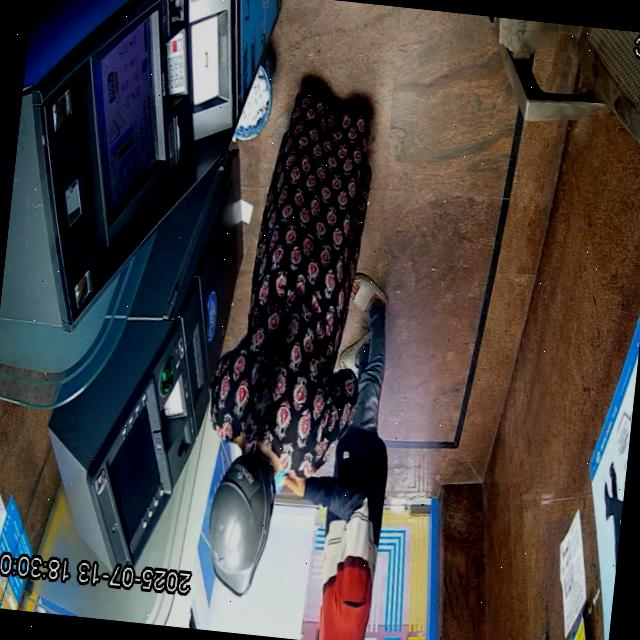helmet: (208, 438, 279, 596)
